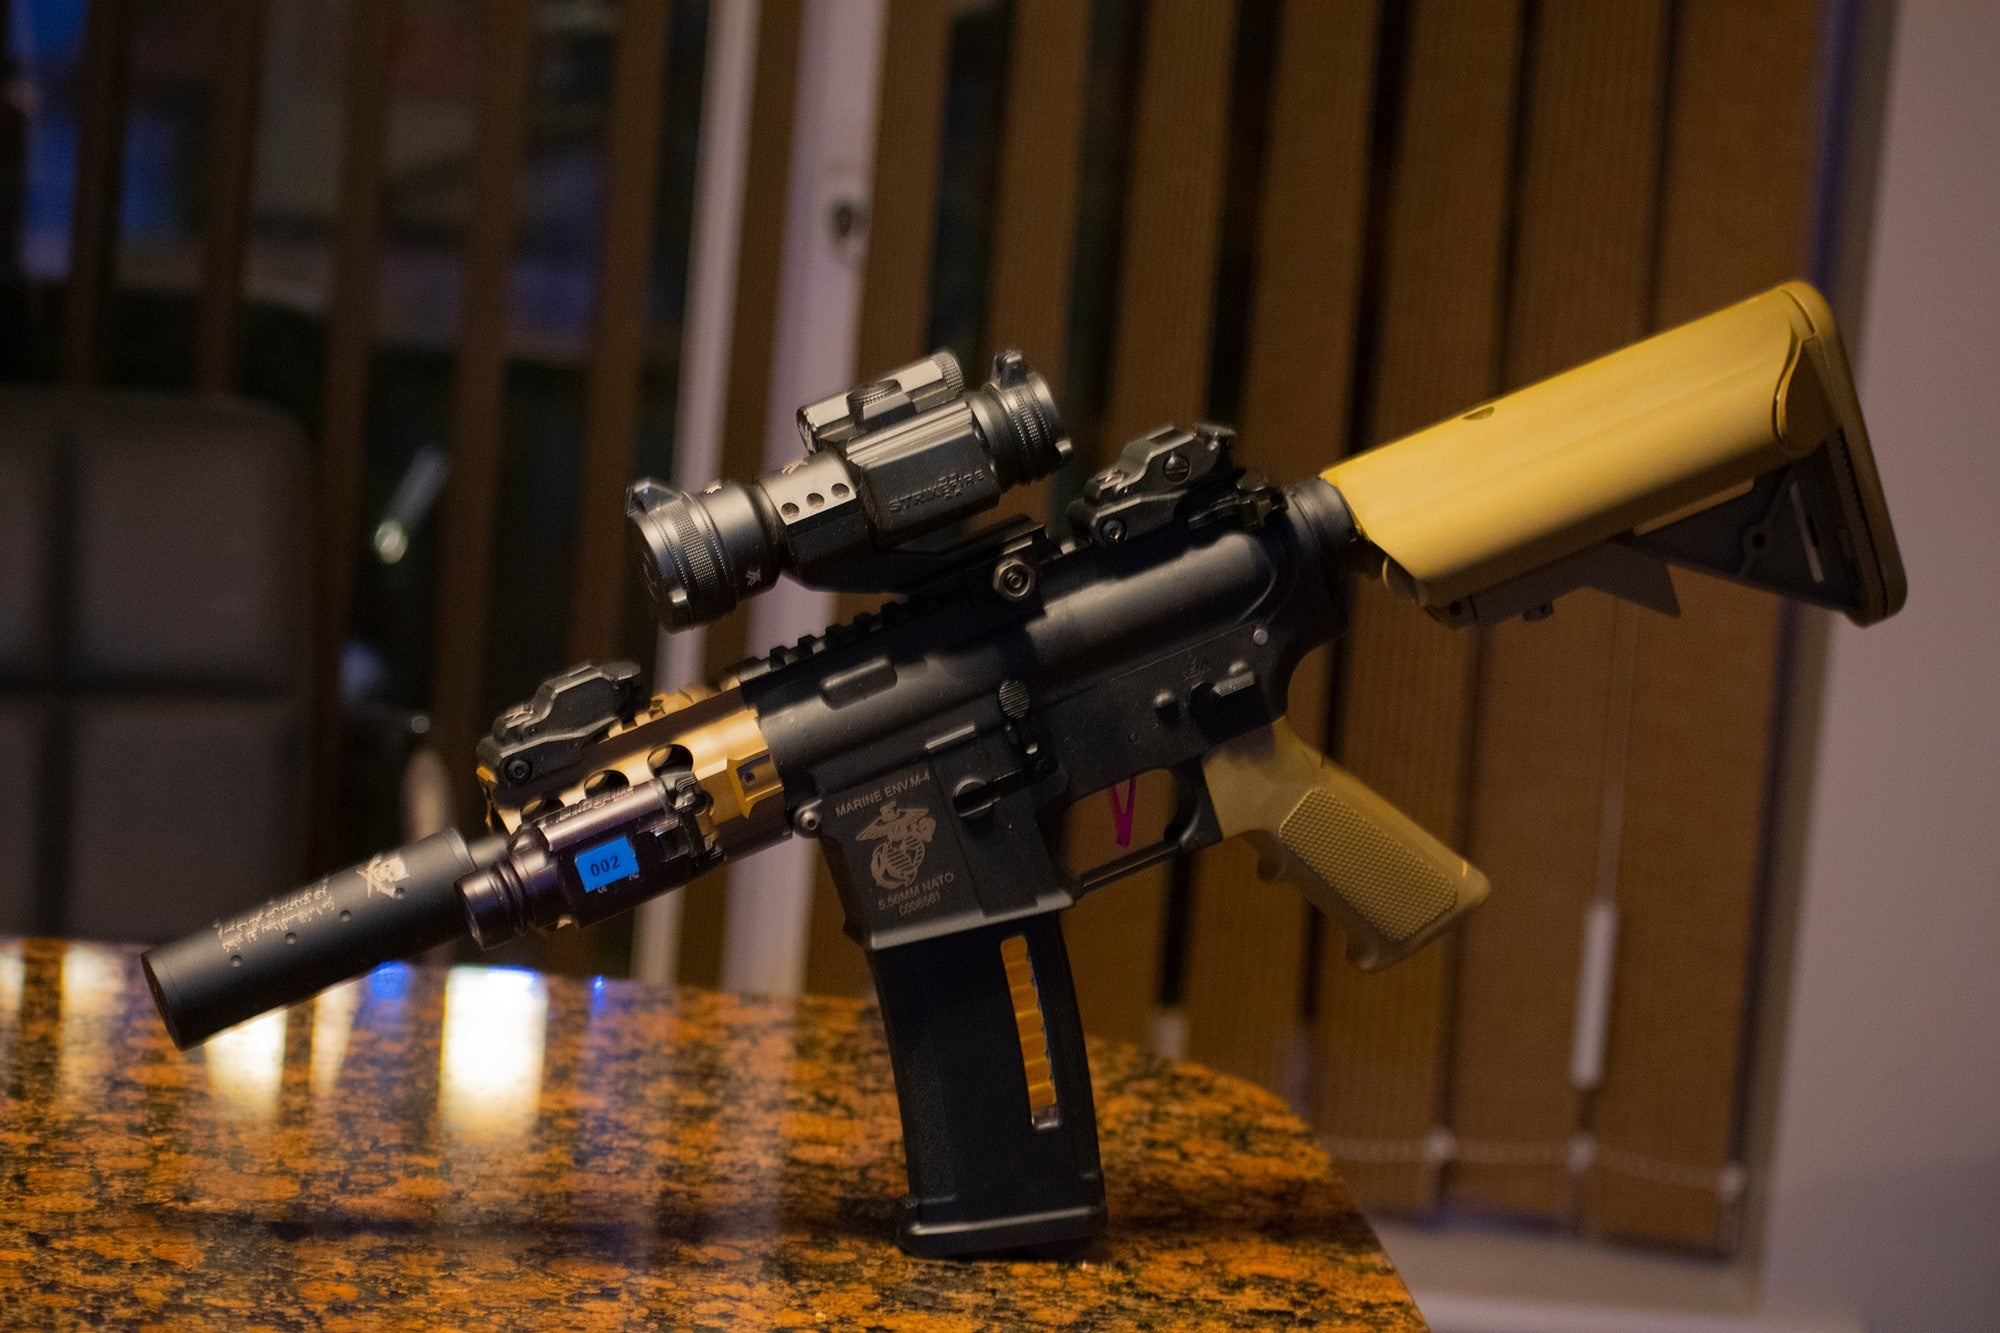m4_carbine: (686, 481, 1497, 1278)
